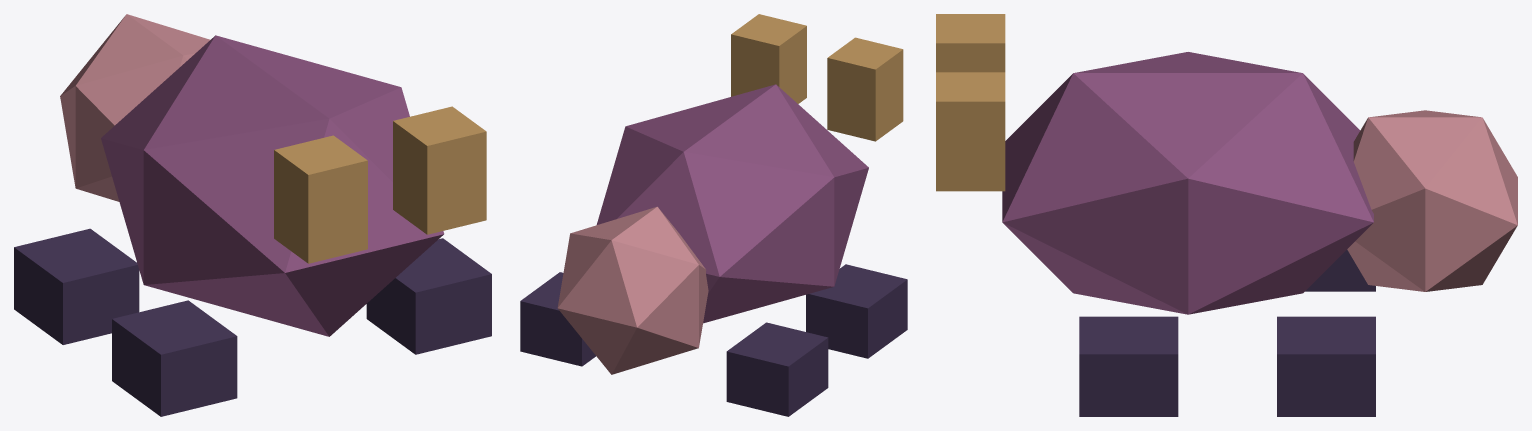
File: mite.glb
3 views of the same model, side by side, from view 1: azimuth 30°, elevation 25°; view 2: azimuth 150°, elevation 25°; view 3: azimuth 270°, elevation 25° (orthographic). The views are drawn at different scales.
Visible parts, largest first — view 1: Body, Head, Foot0, Foot2, Horn0, Horn1, Foot1; view 2: Body, Head, Foot2, Foot0, Horn0, Horn1, Foot3; view 3: Body, Head, Foot1, Foot3, Horn1, Horn0, Foot2.
Part boxes in pixels (x1=…): Body: x1=101, y1=35, x2=444, y2=336; Head: x1=60, y1=14, x2=210, y2=201; Foot0: x1=112, y1=300, x2=237, y2=416; Foot2: x1=14, y1=228, x2=139, y2=344; Horn0: x1=274, y1=135, x2=367, y2=263; Horn1: x1=393, y1=106, x2=486, y2=234; Foot1: x1=366, y1=238, x2=491, y2=354; Body: x1=596, y1=84, x2=868, y2=323; Head: x1=557, y1=206, x2=708, y2=374; Foot2: x1=726, y1=322, x2=828, y2=416; Foot0: x1=806, y1=264, x2=907, y2=358; Horn0: x1=827, y1=37, x2=903, y2=141; Horn1: x1=731, y1=14, x2=806, y2=103; Foot3: x1=520, y1=272, x2=595, y2=366; Body: x1=1002, y1=52, x2=1373, y2=314; Head: x1=1347, y1=110, x2=1517, y2=291; Foot1: x1=1079, y1=316, x2=1178, y2=416; Foot3: x1=1277, y1=316, x2=1375, y2=416; Horn1: x1=936, y1=72, x2=1005, y2=191; Horn0: x1=936, y1=14, x2=1005, y2=72; Foot2: x1=1305, y1=249, x2=1375, y2=291.
Size of the model in its own units: 0.39 by 0.31 by 0.5886.
